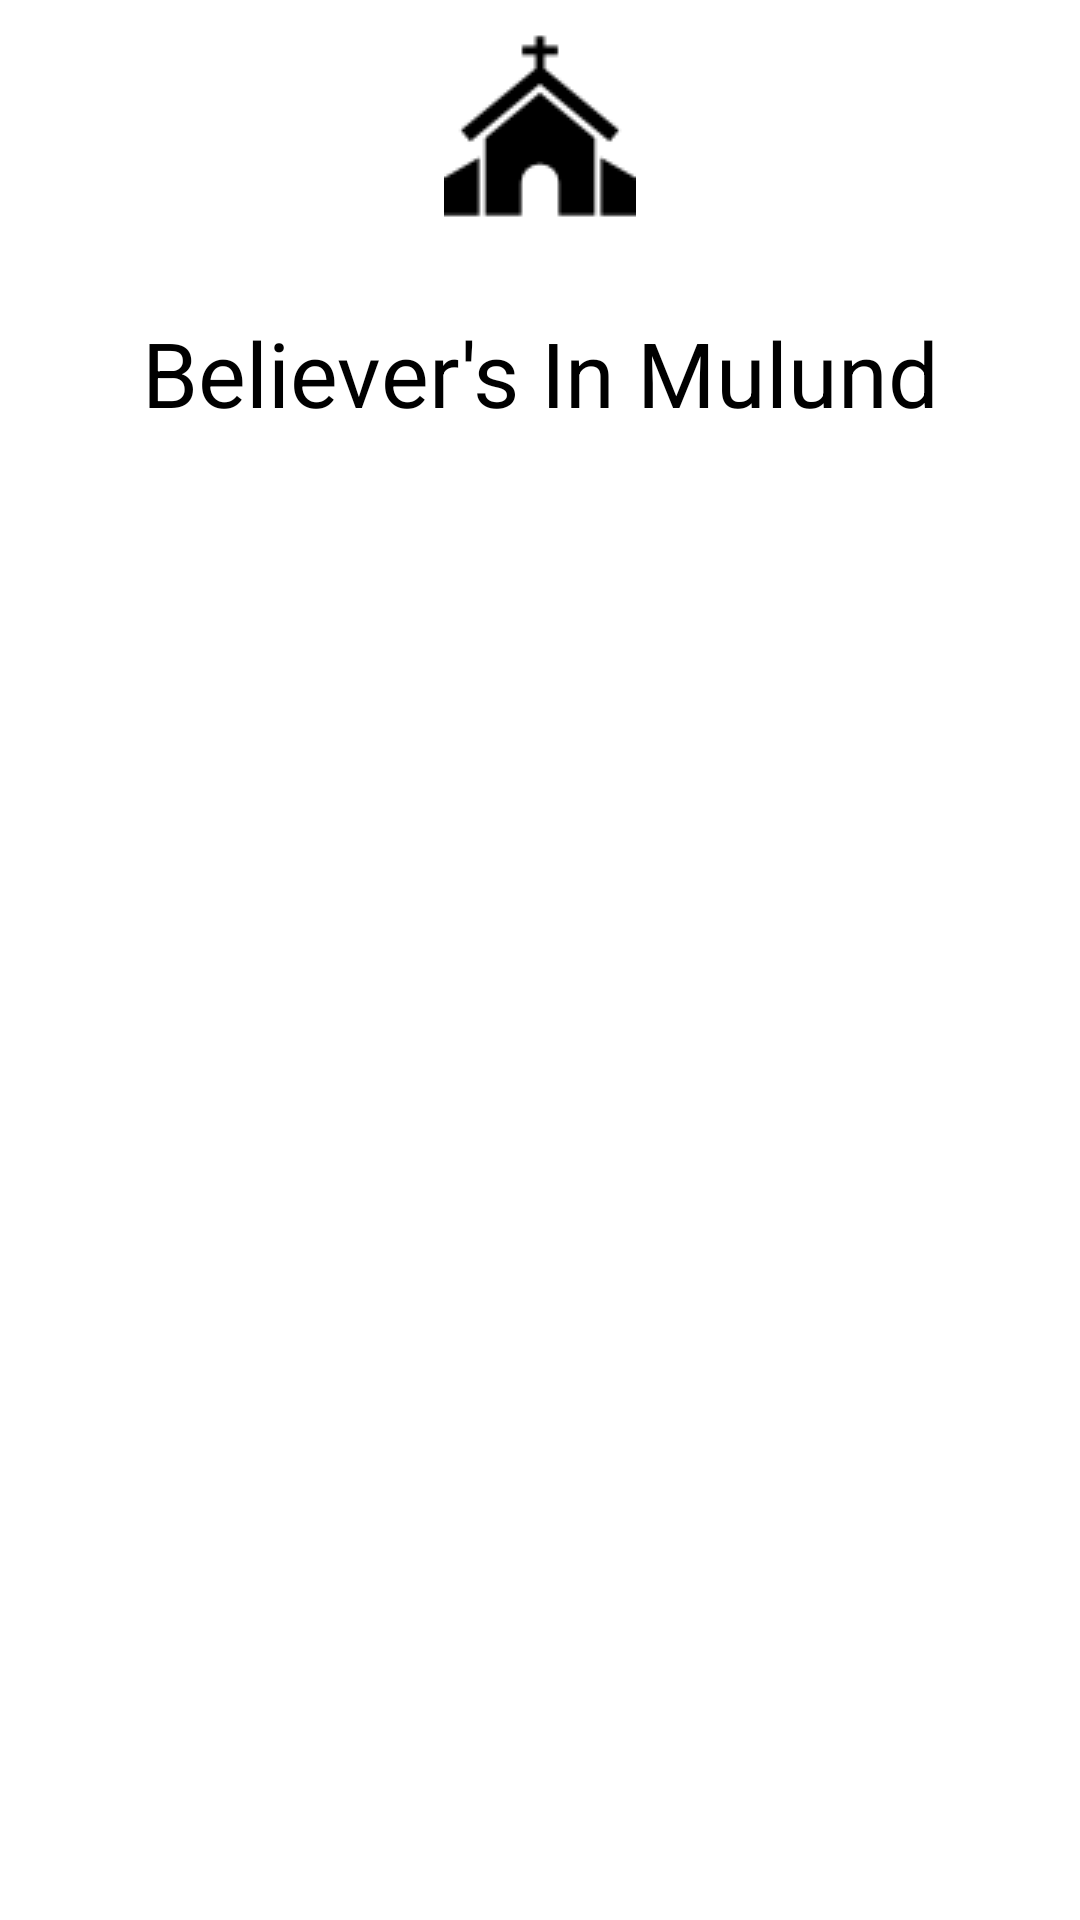

Icon click points for this 1080x1920 phone screenshot, format point (x, y):
church: point (540, 126)
